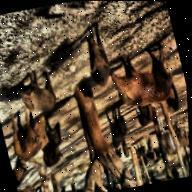boar: (100, 33, 188, 121), (72, 18, 124, 92), (0, 63, 66, 118), (4, 110, 58, 163), (31, 137, 75, 170), (97, 109, 134, 143), (42, 120, 74, 148), (9, 160, 36, 185)
